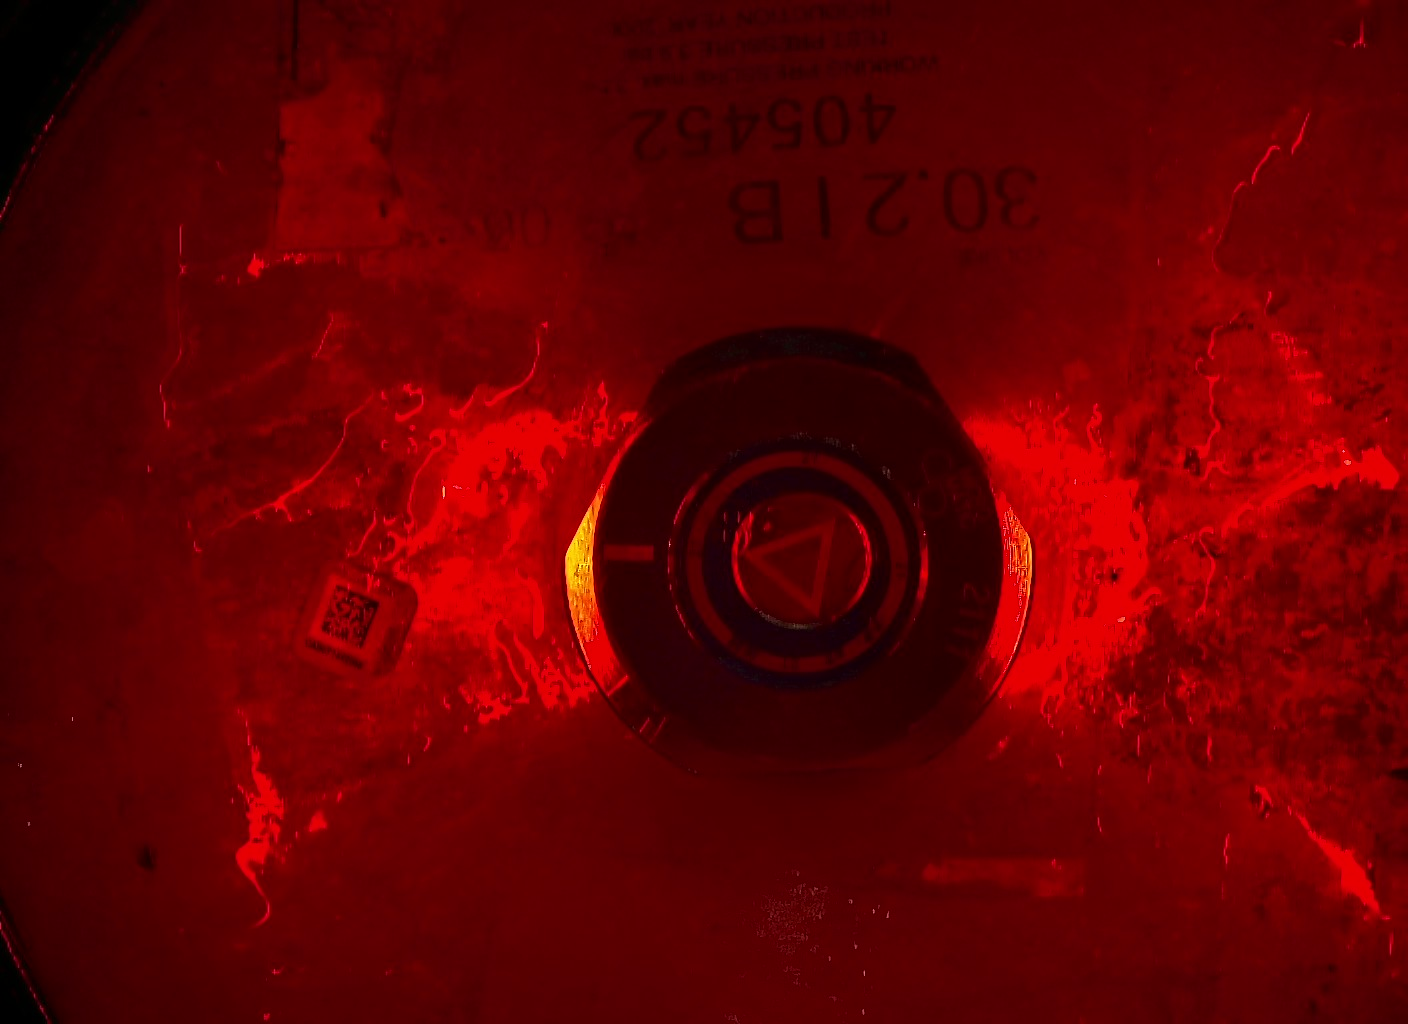pena: (706, 501, 754, 560)
